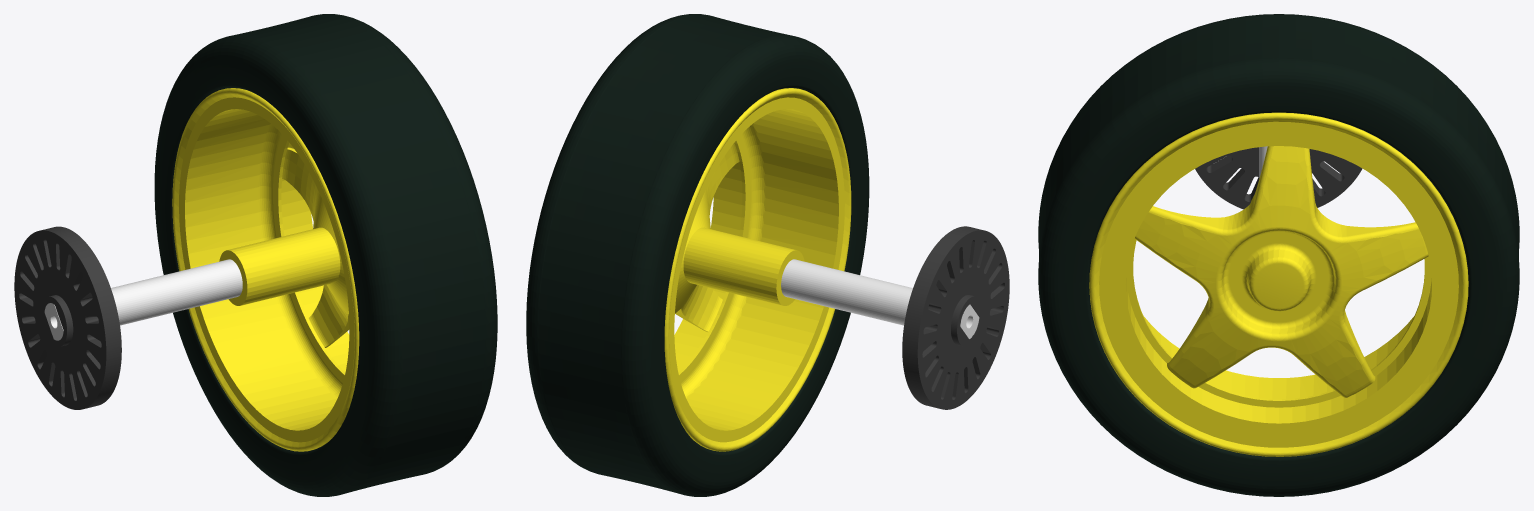
The model's file is left_wheel.dae.
The picture shows the model from 3 angles, left to right: view 1: azimuth 30°, elevation 25°; view 2: azimuth 150°, elevation 25°; view 3: azimuth 270°, elevation 25°; orthographic projection.
Visible parts, largest first — view 1: Tire, Rim, Encoder, Disc, Motor Axis; view 2: Tire, Rim, Encoder, Disc, Motor Axis; view 3: Tire, Rim, Disc, Encoder.
Part boxes in pixels (<box>): Tire: <box>154,14,497,496</box>; Rim: <box>172,88,359,451</box>; Encoder: <box>14,226,121,409</box>; Disc: <box>219,147,349,347</box>; Motor Axis: <box>44,259,242,340</box>; Tire: <box>526,14,869,496</box>; Rim: <box>664,88,851,451</box>; Encoder: <box>902,226,1009,409</box>; Disc: <box>675,143,804,331</box>; Motor Axis: <box>781,259,979,338</box>; Tire: <box>1038,14,1519,496</box>; Rim: <box>1089,112,1468,456</box>; Disc: <box>1134,146,1428,397</box>; Encoder: <box>1195,147,1362,209</box>.
Bounding box in the file's own units: 0.0539 × 0.066 × 0.066.
